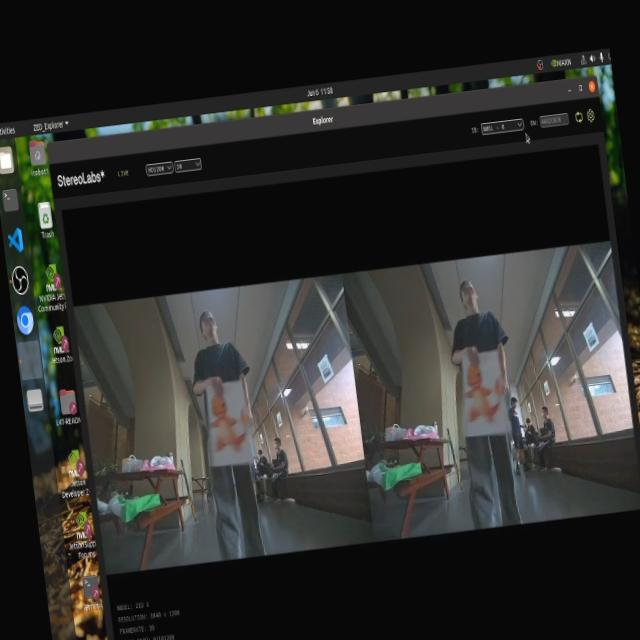red: (450, 356, 510, 446), (202, 380, 260, 460)
